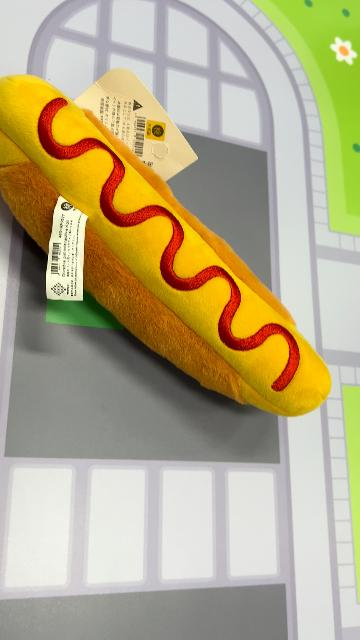hotdog: (2, 74, 332, 418)
